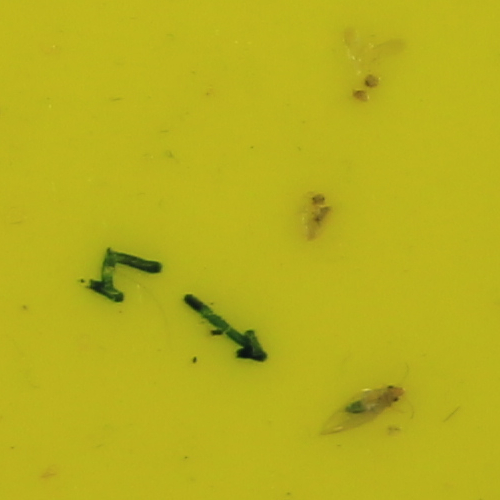Glycaspis: (346, 383, 405, 414)
